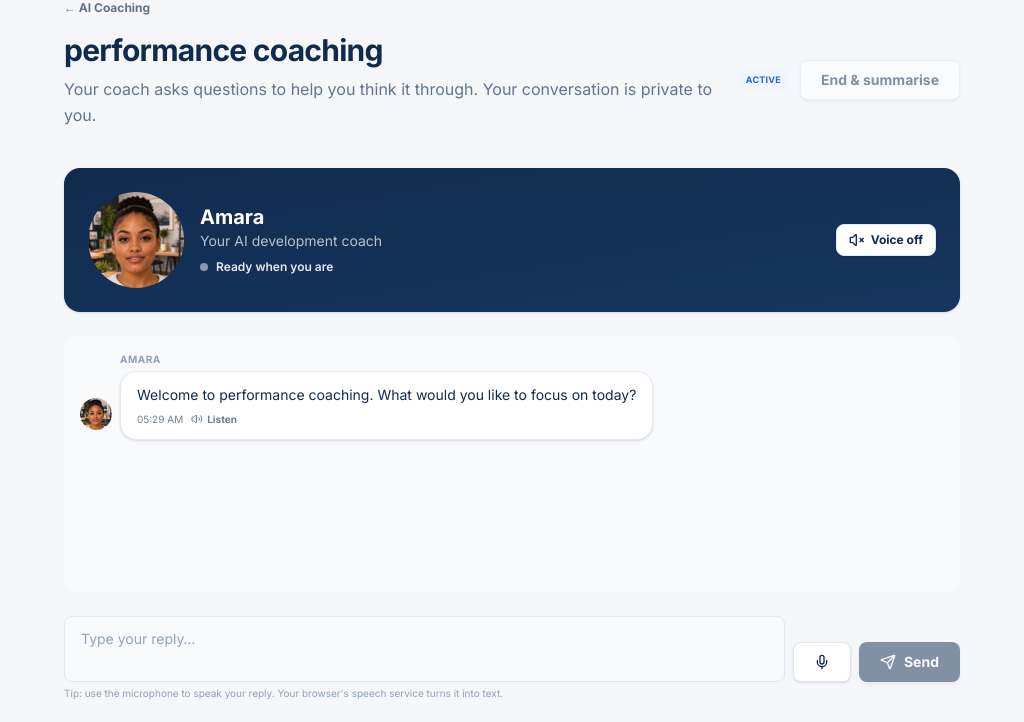
Test: AI Coaching › streams coach replies, keeps the conversation history and ends with a summary
Expected: the text "What would you like to focus on today" is shown, [137,386,636,403]
In the text box named "Message": point(424, 649) [64,616,785,682], type "I want to publish our API standard"
Then press Enter
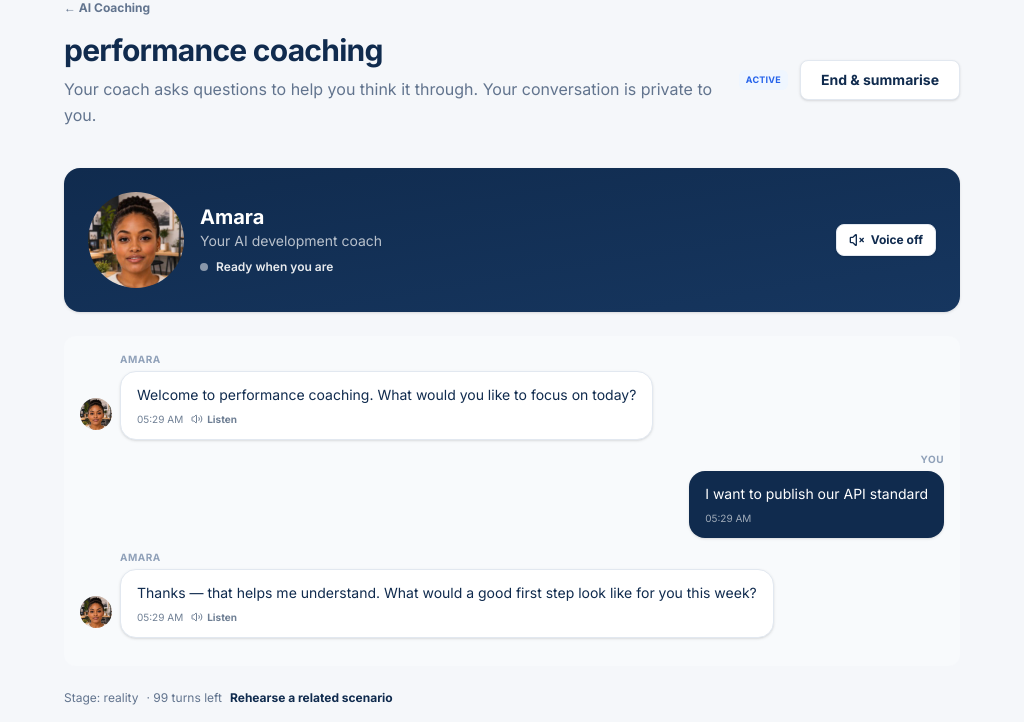
Result: the text "I want to publish our API standard" is shown at [705,485,928,502]
Result: the text "What would a good first step look like" is shown at [137,584,757,601]
Result: the text "· 99 turns left" is shown at [146,690,222,706]
Click the button "End & summarise": point(880, 80) [800,60,960,100]
(page scrolled)
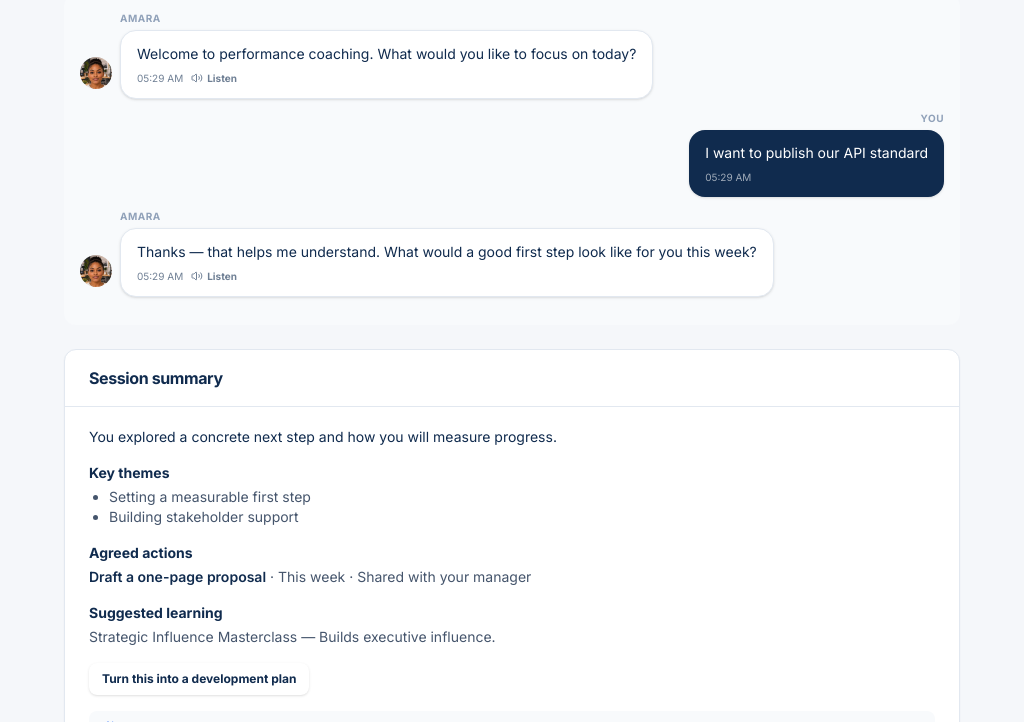
Result: the text "Session summary" is shown at [89,368,223,388]
Result: the text "Draft a one-page proposal" is shown at [89,568,266,585]
